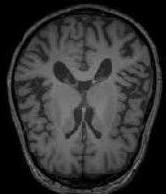Normal_Brain: (1, 1, 166, 194)
